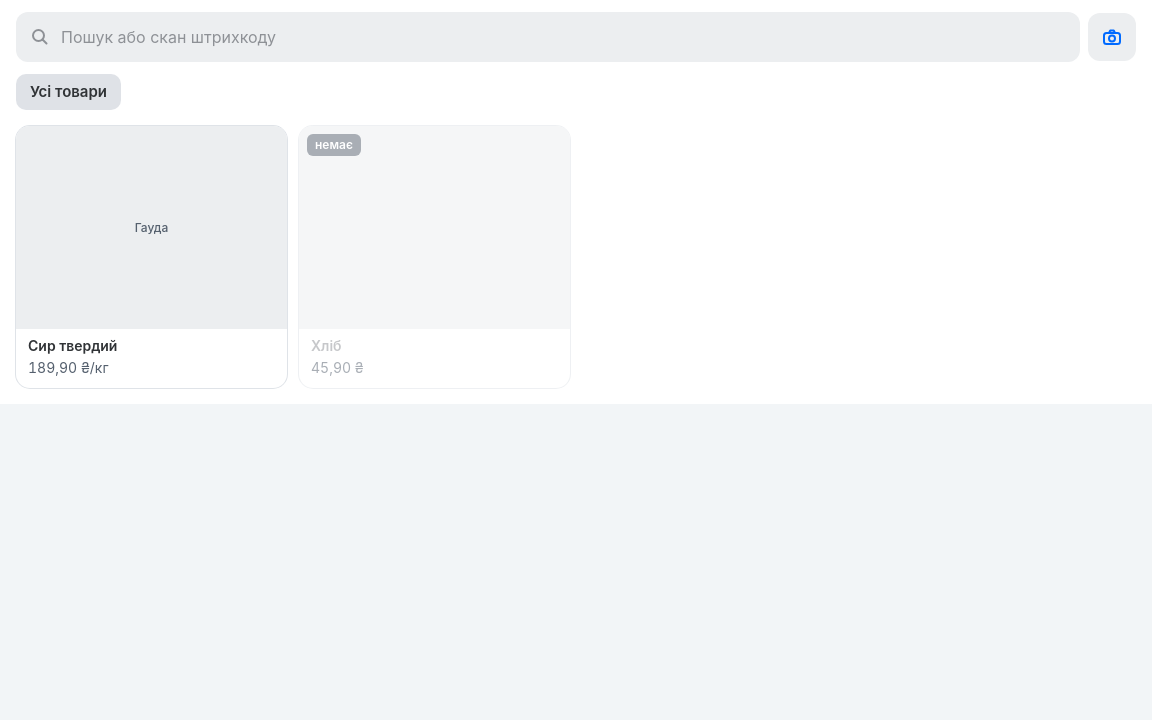
Test: the fallback catalog with weighed goods › opens the weight pad on a tap and rings the weighing as its own line
Click the button "Гауда Сир твердий 189,90 ₴/кг": (152,257) [16, 126, 287, 388]
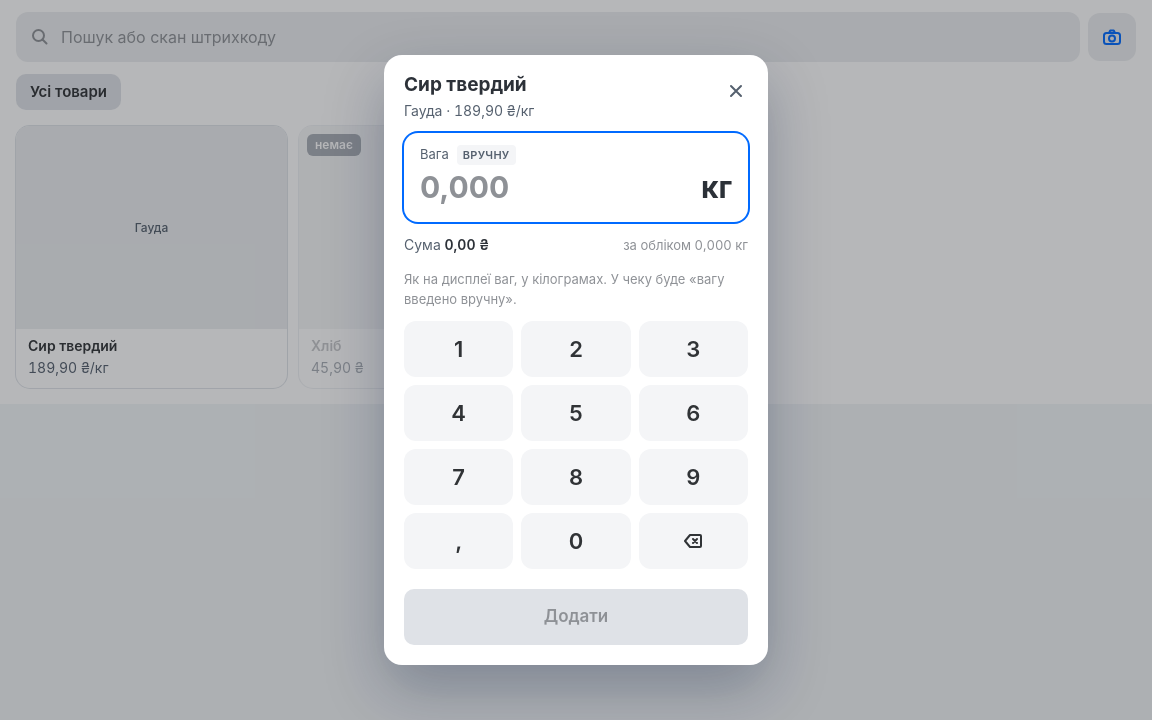
Check: the dialog with test id "weight-pad" is shown, box [384, 55, 768, 665]
Click the button "0": (576,541) [521, 513, 631, 569]
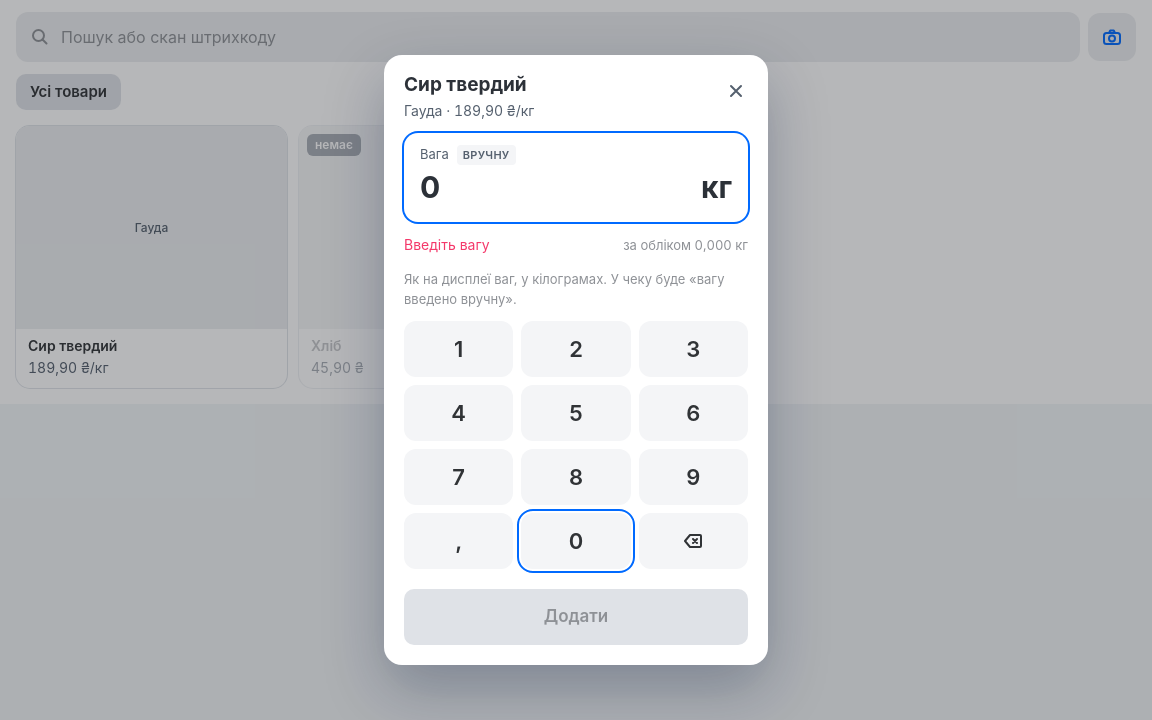
Click the button ",": (459,541) [404, 513, 513, 569]
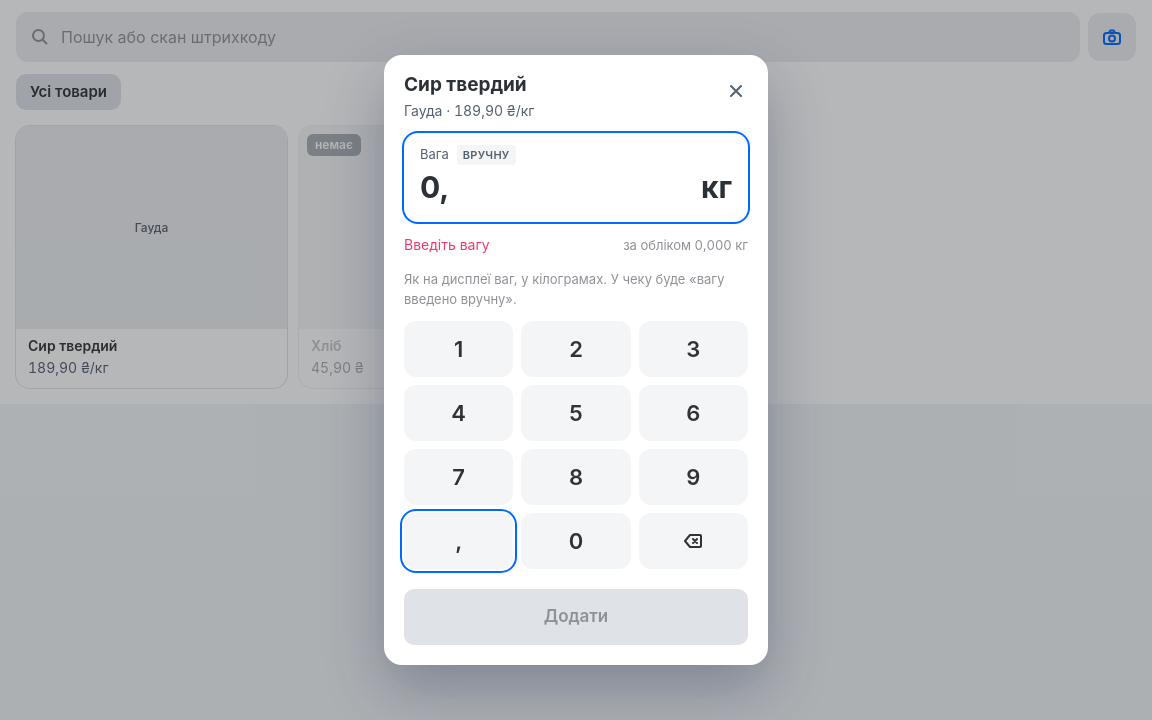
Click the button "3": (693,349) [639, 321, 748, 377]
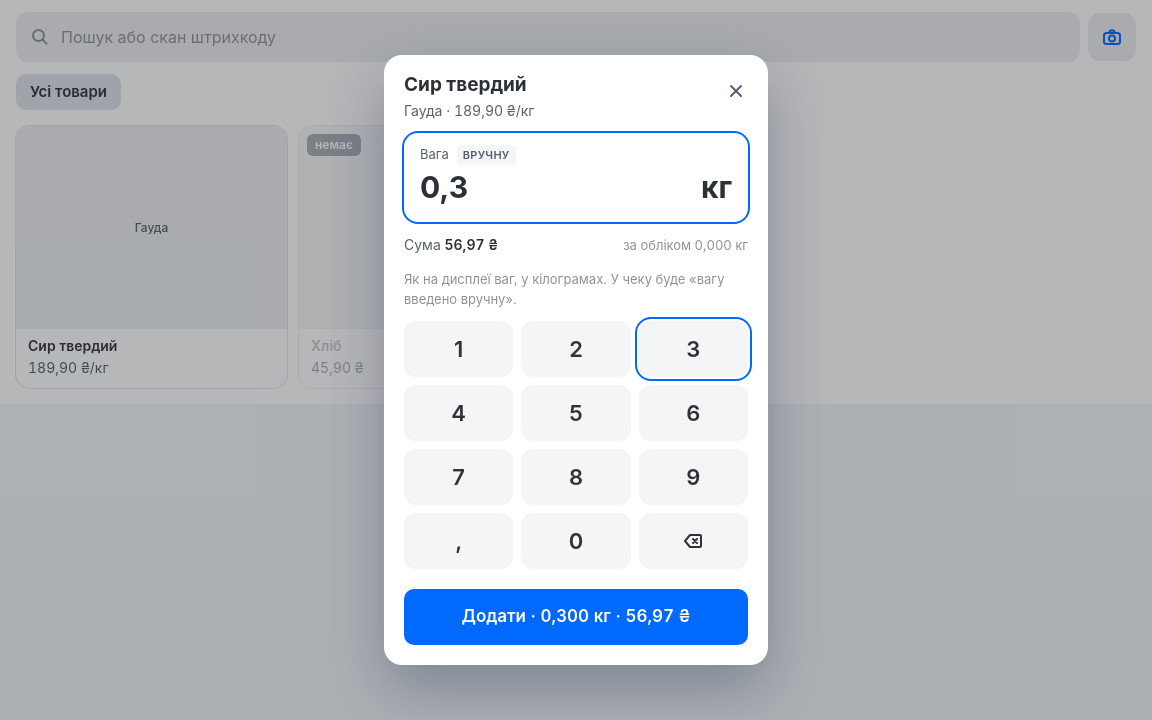
Click the button "5": (576,413) [521, 385, 631, 441]
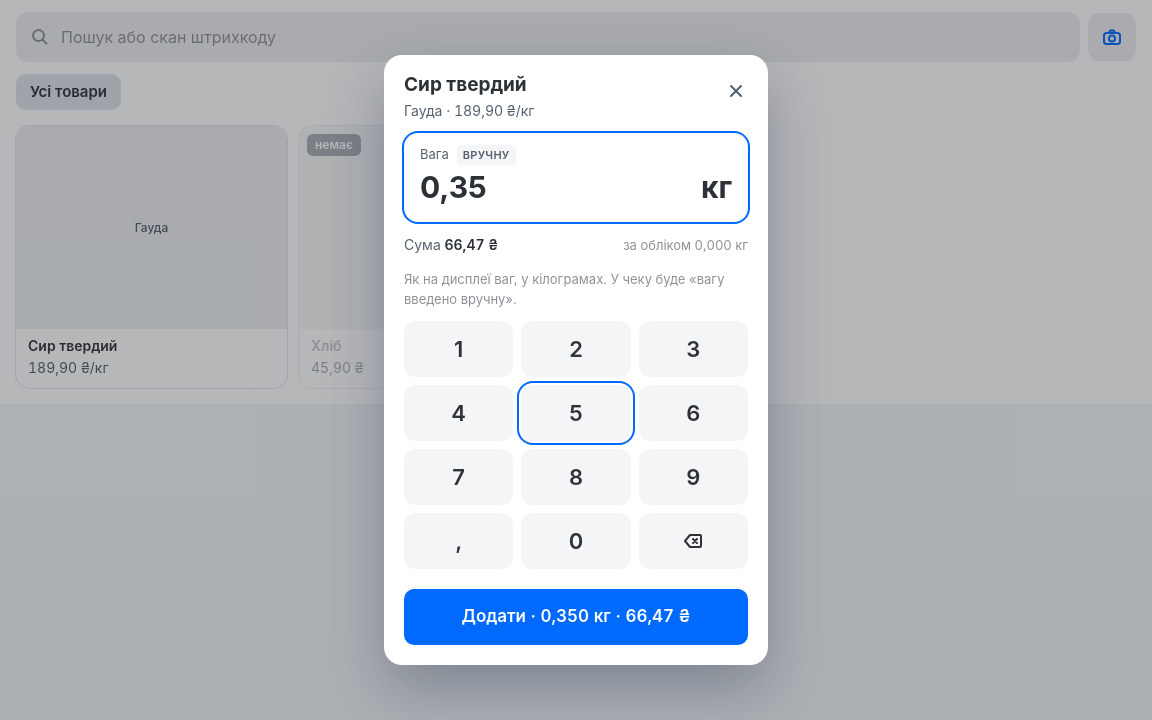
Click the button with test id "weight-pad-confirm": (576,617) [404, 589, 748, 645]
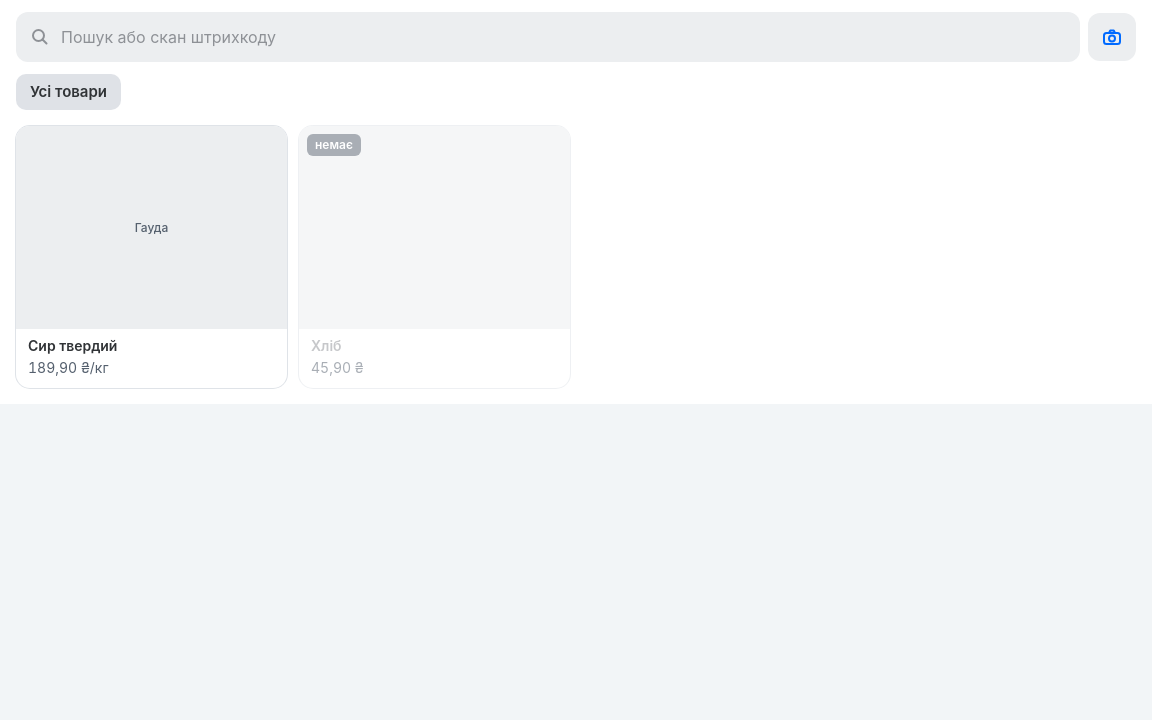
Check: the dialog with test id "weight-pad" is gone
